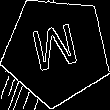M_S: (29, 21, 84, 80)
